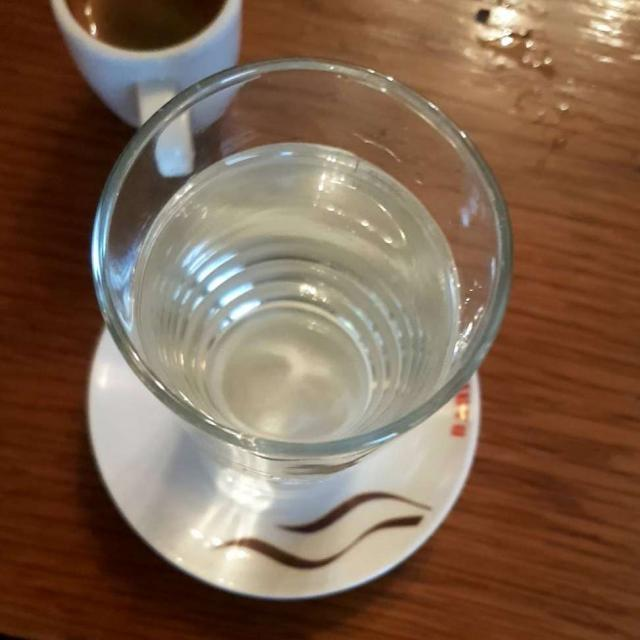water: (136, 139, 470, 441)
